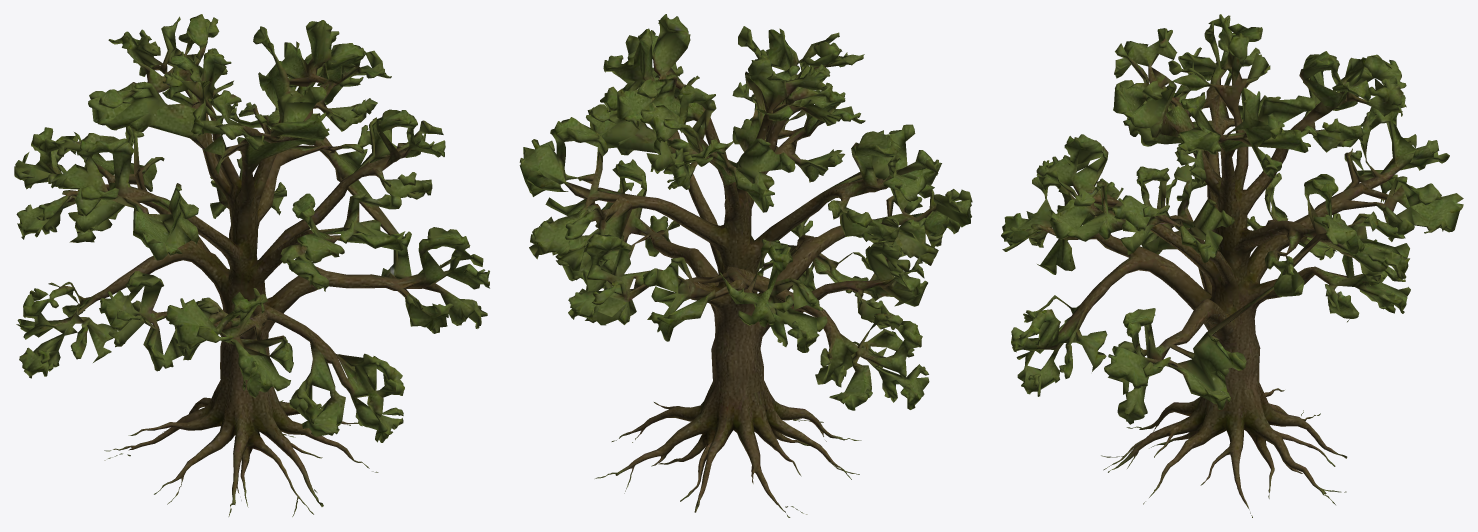
Rendered from tripo_oak_20k.glb.
3 renders of one model, left to right at view 1: azimuth 30°, elevation 25°; view 2: azimuth 150°, elevation 25°; view 3: azimuth 270°, elevation 25°, orthographic.
Visible parts, largest first — view 1: tripo_node_143bb9f0-293c-43f4-95cd-28bc6e87b694; view 2: tripo_node_143bb9f0-293c-43f4-95cd-28bc6e87b694; view 3: tripo_node_143bb9f0-293c-43f4-95cd-28bc6e87b694.
Part boxes in pixels (x1=…): tripo_node_143bb9f0-293c-43f4-95cd-28bc6e87b694: x1=14, y1=14, x2=489, y2=516; tripo_node_143bb9f0-293c-43f4-95cd-28bc6e87b694: x1=519, y1=14, x2=972, y2=517; tripo_node_143bb9f0-293c-43f4-95cd-28bc6e87b694: x1=1001, y1=14, x2=1463, y2=517.
Bounding box in the file's own units: 0.9805 × 0.998 × 0.9941.
1 material, 1 textured.
